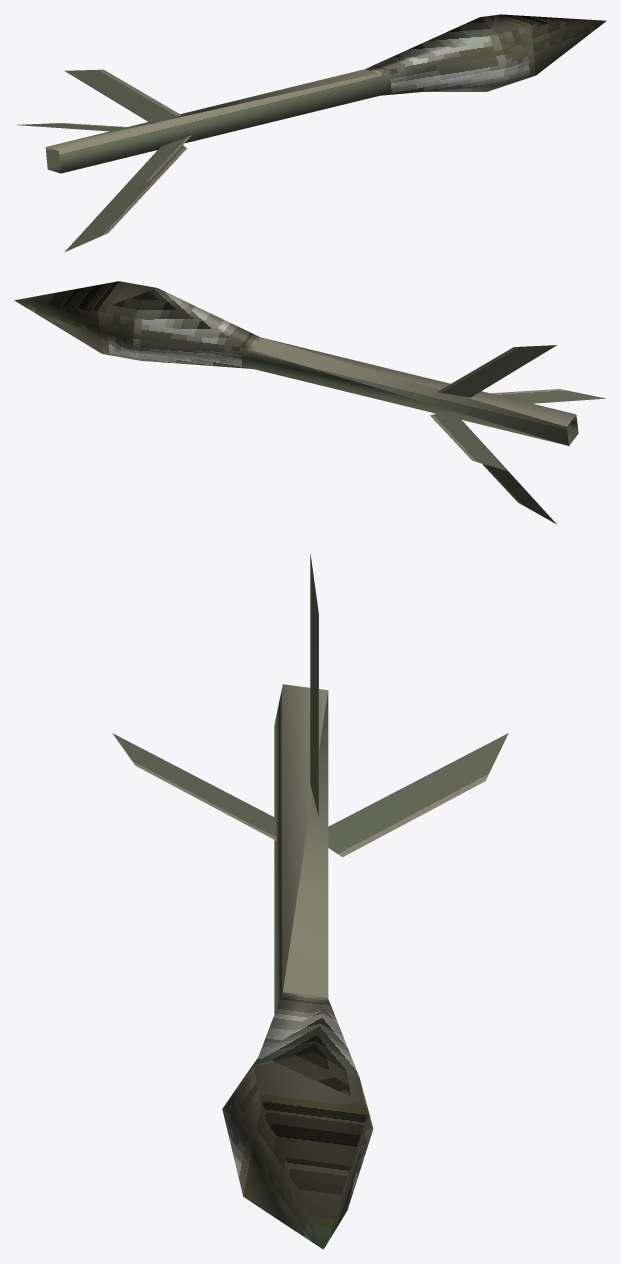
File: Missile.fbx
3 views of the same model, one above another, from view 1: azimuth 30°, elevation 25°; view 2: azimuth 150°, elevation 25°; view 3: azimuth 270°, elevation 25° (orthographic). The views are drawn at different scales.
Visible parts, largest first — view 1: missile; view 2: missile; view 3: missile.
Boxes of the visible parts, bbox=[...] form: missile: bbox=[17, 14, 606, 251]; missile: bbox=[14, 281, 605, 524]; missile: bbox=[112, 553, 508, 1249].
Bounding box in the file's own units: 70.46 × 21.84 × 21.85.
Materials: 1 (1 with a texture image).
